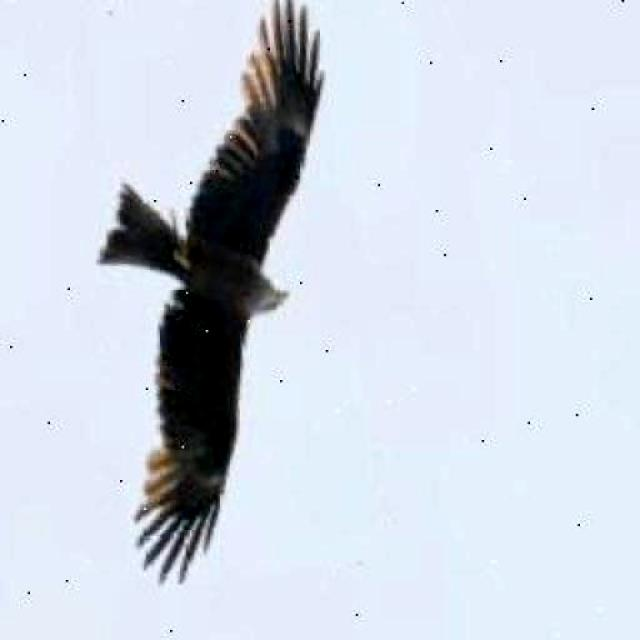airplane: (65, 0, 382, 589)
